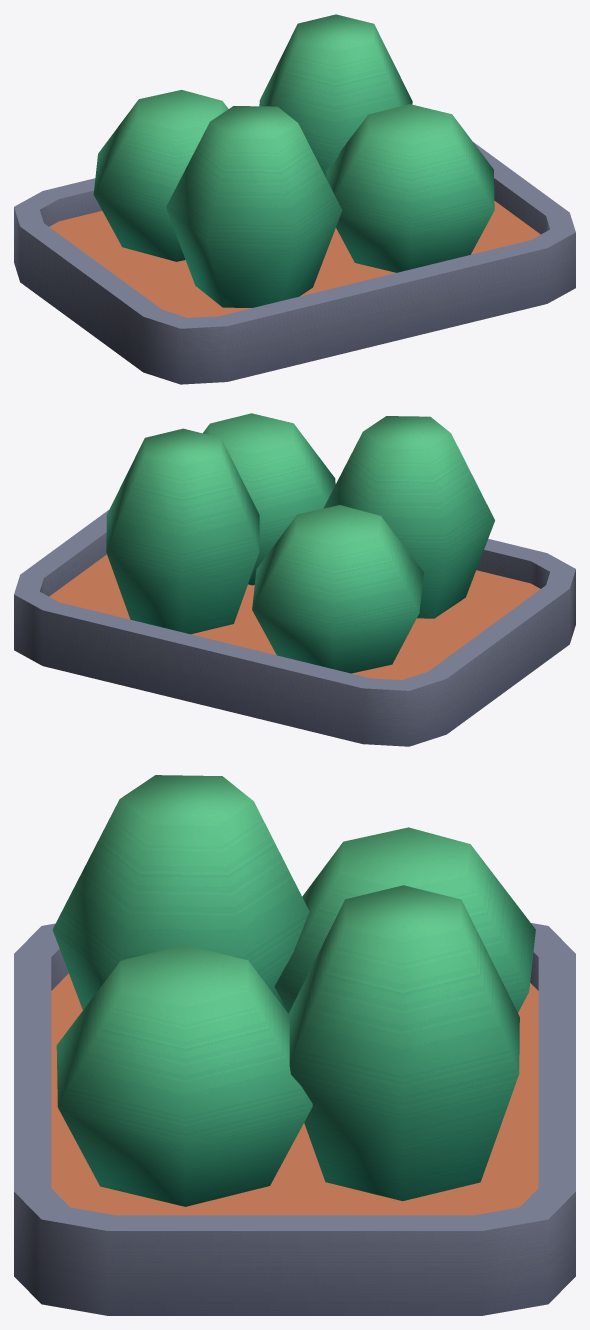
Rendered from city_planter.glb.
The picture shows the model from 3 angles, top to bottom: view 1: azimuth 30°, elevation 25°; view 2: azimuth 150°, elevation 25°; view 3: azimuth 270°, elevation 25°; orthographic projection. The views are drawn at different scales.
Visible parts, largest first — view 1: planter; view 2: planter; view 3: planter.
Part boxes in pixels (left/top/right/bottom): planter: left=14, top=14, right=575, bottom=384; planter: left=14, top=413, right=575, bottom=746; planter: left=14, top=775, right=575, bottom=1315.
Bounding box in the file's own units: 2.4 × 1.06 × 1.8.
1 material, 1 textured.
